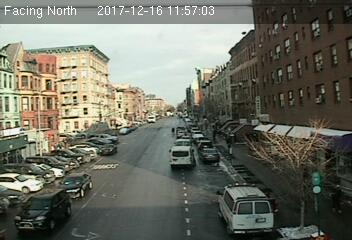car: (14, 189, 73, 233), (59, 173, 94, 199), (170, 145, 195, 170), (199, 147, 220, 162), (99, 143, 116, 155), (176, 129, 187, 139)
police: (217, 181, 276, 232)
